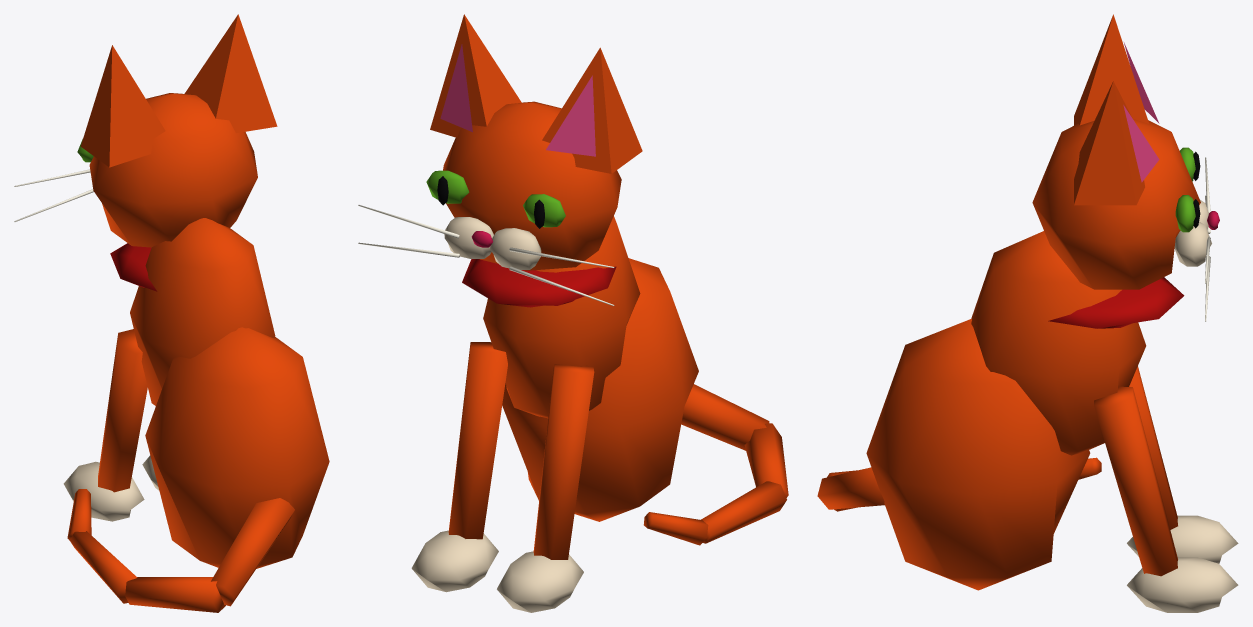
The model's file is PV_PetCat.fbx.
3 renders of one model, left to right at view 1: azimuth 30°, elevation 25°; view 2: azimuth 150°, elevation 25°; view 3: azimuth 270°, elevation 25°, orthographic. The views are drawn at different scales.
Visible parts, largest first — view 1: PV_PetCat_LOD0; view 2: PV_PetCat_LOD0; view 3: PV_PetCat_LOD0.
Boxes of the visible parts, x1,y1,x2,y2 form: PV_PetCat_LOD0: (14,14,329,612); PV_PetCat_LOD0: (358,14,788,612); PV_PetCat_LOD0: (817,14,1238,612).
Size of what is drawn, in the model's own units: 0.505 by 0.91 by 0.6394.
